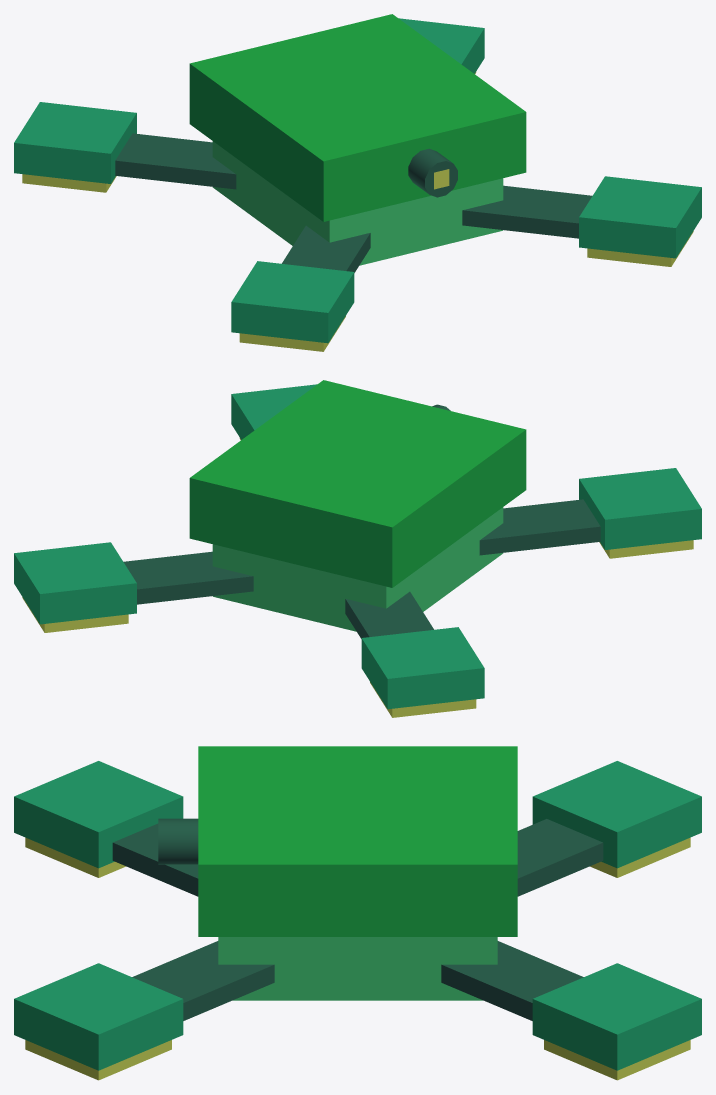
File: Scout.FBX
3 views of the same model, one above another, from view 1: azimuth 30°, elevation 25°; view 2: azimuth 150°, elevation 25°; view 3: azimuth 270°, elevation 25° (orthographic). The views are drawn at different scales.
Visible parts, largest first — view 1: MultiMesher001; view 2: MultiMesher001; view 3: MultiMesher001.
Part boxes in pixels (x1,y1,x2,y2): MultiMesher001: [14, 14, 701, 351]; MultiMesher001: [14, 380, 701, 717]; MultiMesher001: [14, 746, 701, 1080].
Bounding box in the file's own units: 81.21 × 20 × 86.21.
